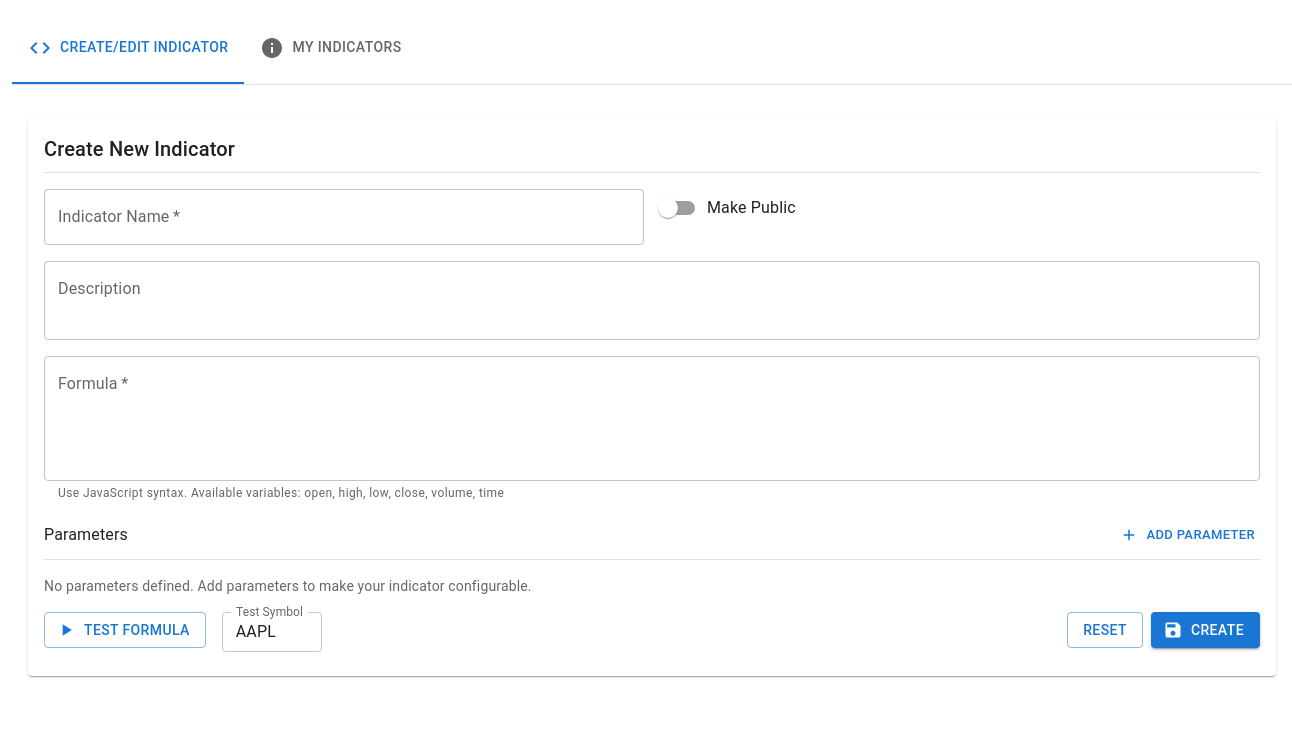
Test: CustomIndicatorBuilder › switches to My Indicators tab and displays indicators
The image size is (1292, 732).
# Click on the My Indicators tab
Click the tab "My Indicators": coordinates (331, 48) [244, 12, 418, 84]
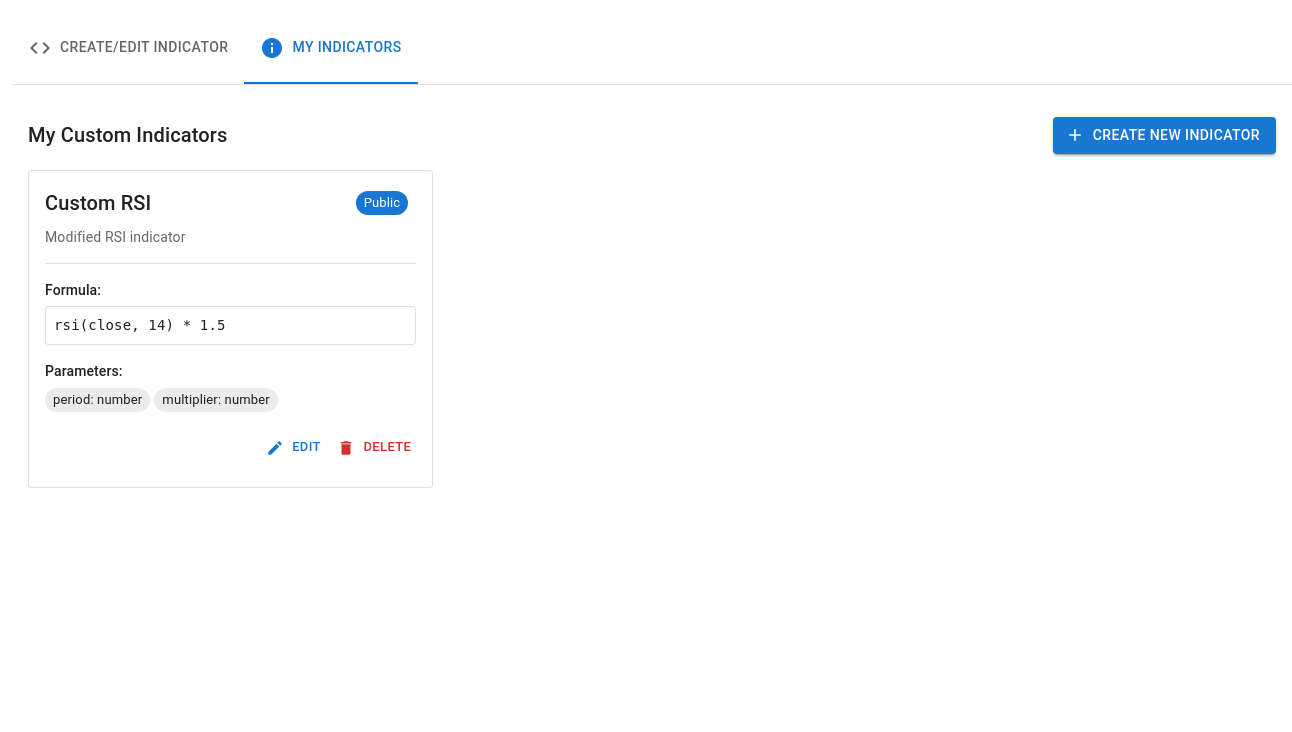
expect the heading "Custom RSI" is shown: met, box [45, 186, 151, 218]
expect the text "Modified RSI indicator" is shown: met, box [45, 228, 186, 244]
expect the heading "Formula:" is shown: met, box [45, 282, 101, 298]
